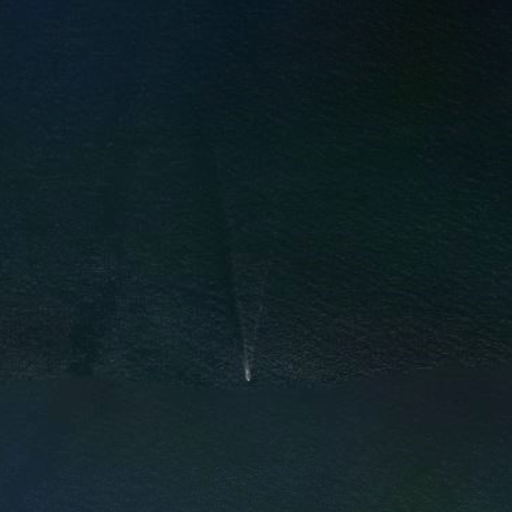ship: (243, 367, 253, 384)
